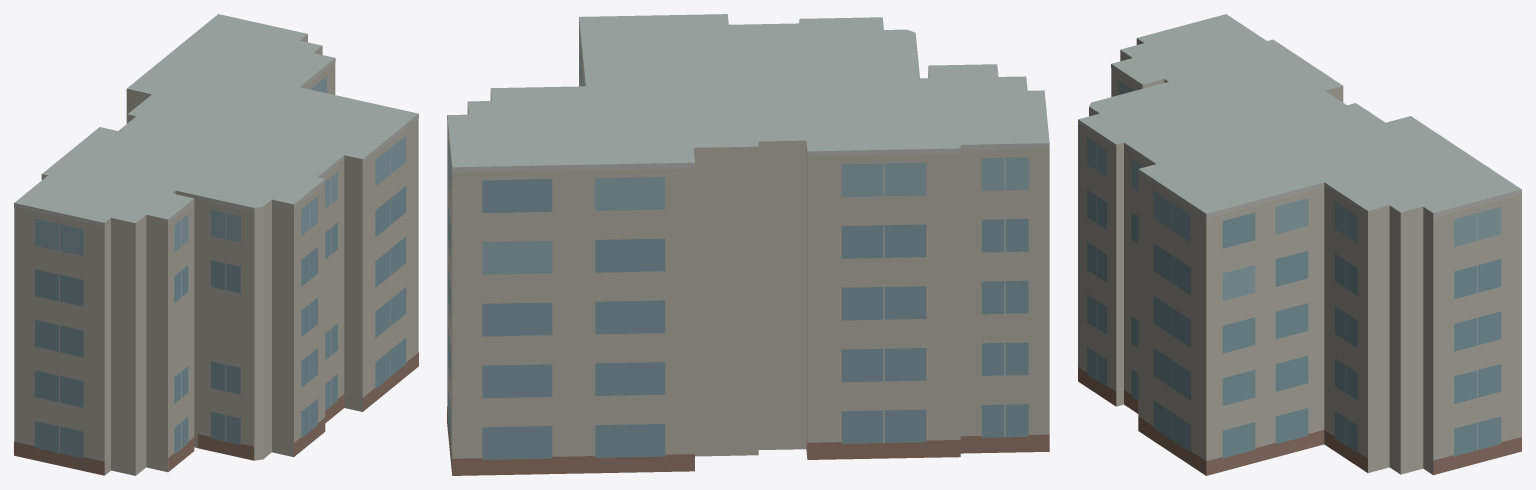
The model's file is survey-upis-32634442.glb.
3 renders of one model, left to right at view 1: azimuth 30°, elevation 25°; view 2: azimuth 150°, elevation 25°; view 3: azimuth 270°, elevation 25°, orthographic. The views are drawn at different scales.
Visible parts, largest first — view 1: survey-upis-32634442.tmp; view 2: survey-upis-32634442.tmp; view 3: survey-upis-32634442.tmp.
Part boxes in pixels (left/top/right/bottom): survey-upis-32634442.tmp: left=14, top=14, right=418, bottom=475; survey-upis-32634442.tmp: left=447, top=14, right=1049, bottom=475; survey-upis-32634442.tmp: left=1078, top=14, right=1521, bottom=475.
Size of the model in its own units: 23.07 by 14.1 by 21.65.
